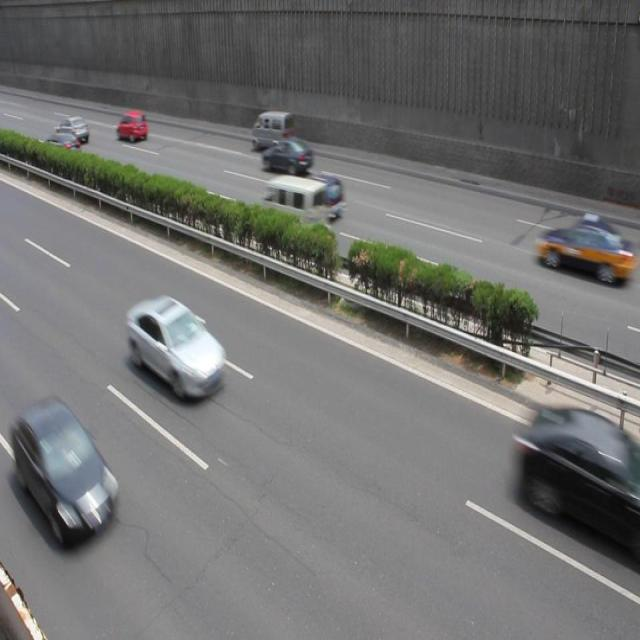car: (18, 396, 121, 550), (517, 402, 625, 544), (128, 294, 228, 402), (536, 214, 615, 284), (294, 172, 342, 222), (260, 136, 312, 177), (46, 129, 80, 164), (57, 115, 89, 143), (116, 113, 147, 141)
truck: (258, 176, 331, 248), (250, 109, 294, 151)
